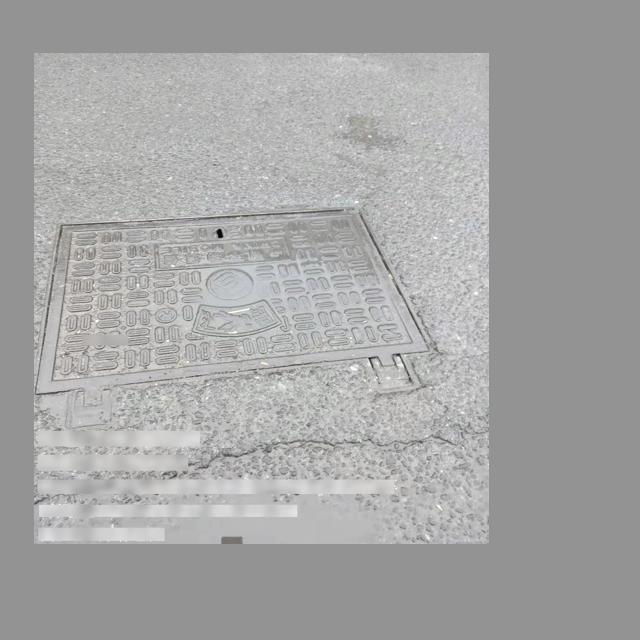good: (33, 203, 432, 405)
